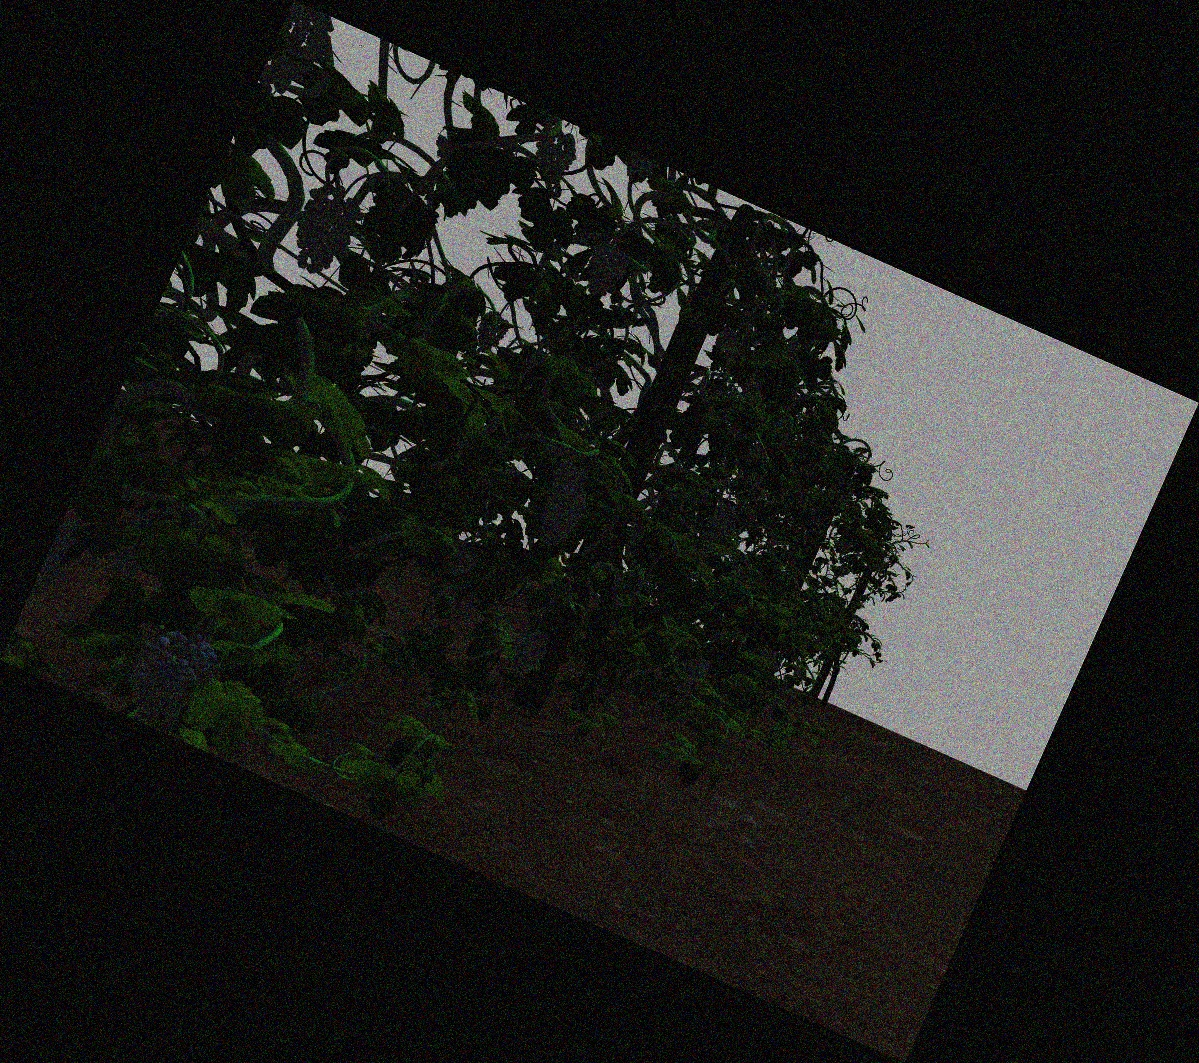grape: (136, 629, 206, 723), (297, 186, 354, 272), (274, 11, 322, 100), (541, 486, 579, 552), (535, 131, 573, 181), (588, 246, 624, 297), (512, 629, 544, 678), (674, 653, 704, 700), (709, 502, 737, 542), (714, 327, 742, 363), (838, 534, 852, 555)
